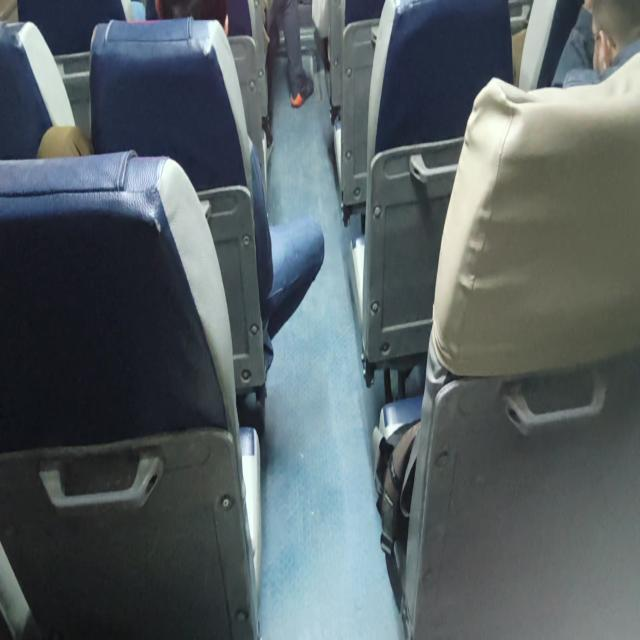person: (374, 0, 639, 637), (36, 1, 325, 434), (263, 0, 314, 147), (561, 0, 639, 88), (144, 0, 229, 36), (36, 124, 94, 158)
